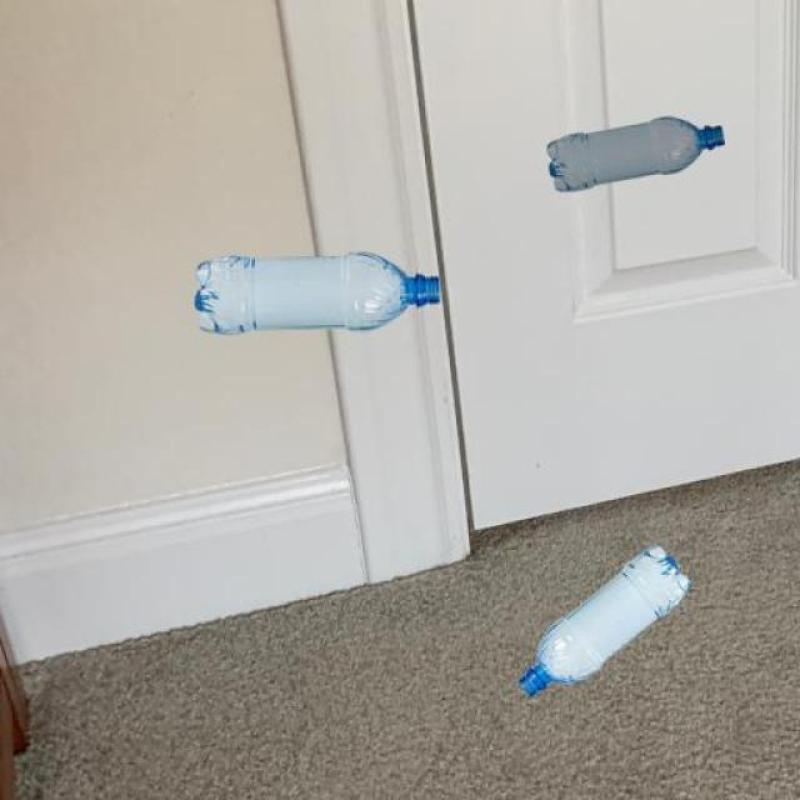botella: (516, 548, 692, 700), (194, 252, 438, 333), (544, 116, 725, 194)
